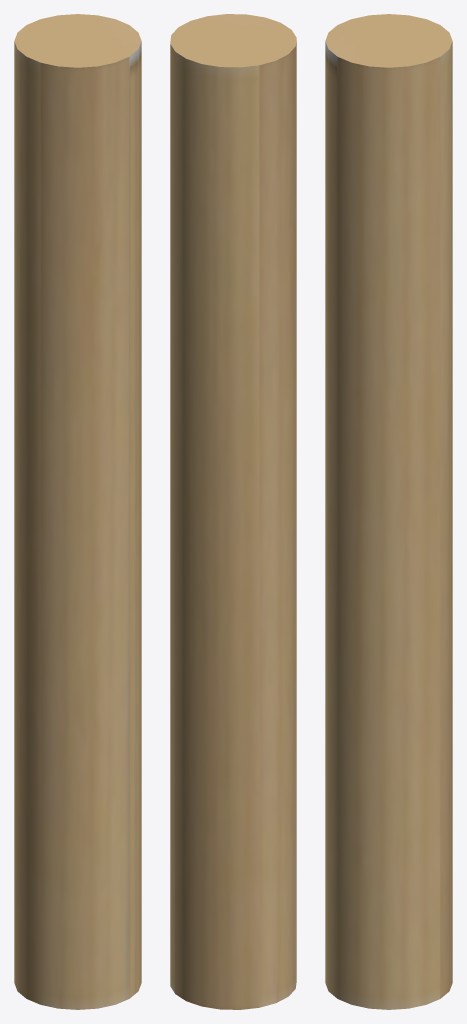
The model's file is bou.fbx.
The picture shows the model from 3 angles, left to right: view 1: azimuth 90°, elevation 25°; view 2: azimuth 150°, elevation 25°; view 3: azimuth 270°, elevation 25°; orthographic projection.
Parts seen in each view (by area): view 1: pCylinder1; view 2: pCylinder1; view 3: pCylinder1.
Part boxes in pixels (x1,y1,x2,y2): pCylinder1: [14, 14, 141, 1009]; pCylinder1: [170, 14, 296, 1009]; pCylinder1: [325, 14, 452, 1009].
Bounding box in the file's own units: 8.51 × 69.52 × 8.51.
Materials: 1 (1 with a texture image).
